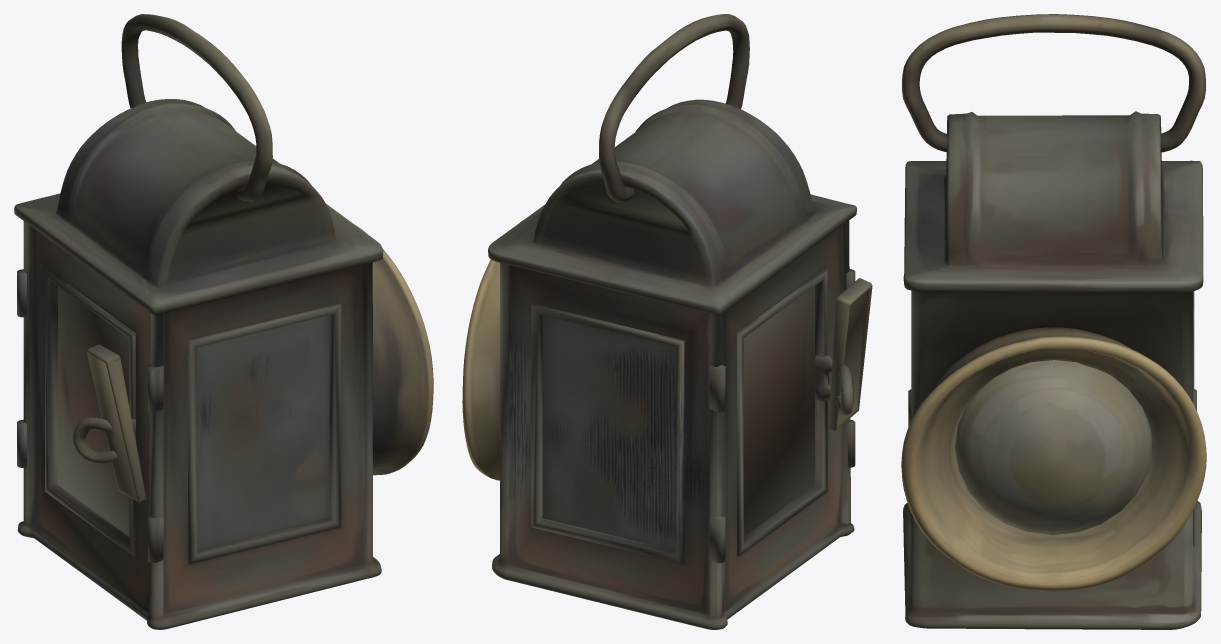
The model's file is SM_Env_SohoHandLantern.fbx.
3 renders of one model, left to right at view 1: azimuth 30°, elevation 25°; view 2: azimuth 150°, elevation 25°; view 3: azimuth 270°, elevation 25°, orthographic. The views are drawn at different scales.
Parts seen in each view (by area): view 1: SM_Env_SohoHandLantern; view 2: SM_Env_SohoHandLantern; view 3: SM_Env_SohoHandLantern.
Boxes of the visible parts, x1=… form: SM_Env_SohoHandLantern: x1=14, y1=14, x2=433, y2=629; SM_Env_SohoHandLantern: x1=462, y1=14, x2=872, y2=629; SM_Env_SohoHandLantern: x1=901, y1=14, x2=1206, y2=629.
Size of the model in its own units: 5.81 by 4.52 by 9.
Materials: 1 (1 with a texture image).
